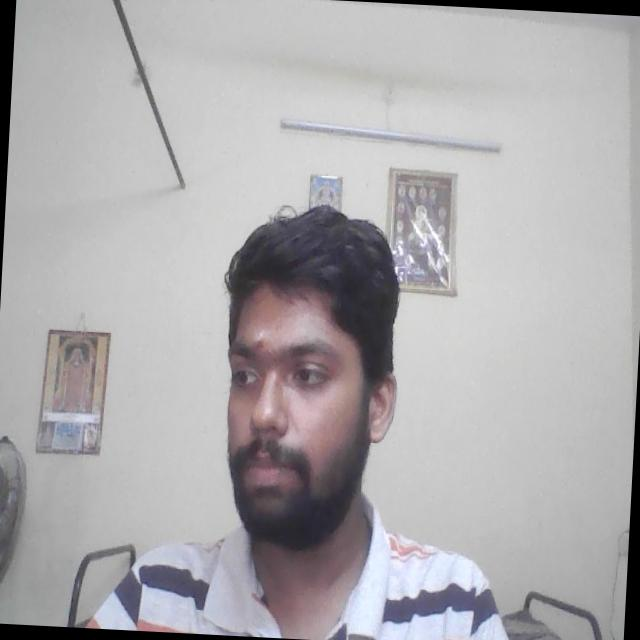Focused: (220, 306, 364, 514)
